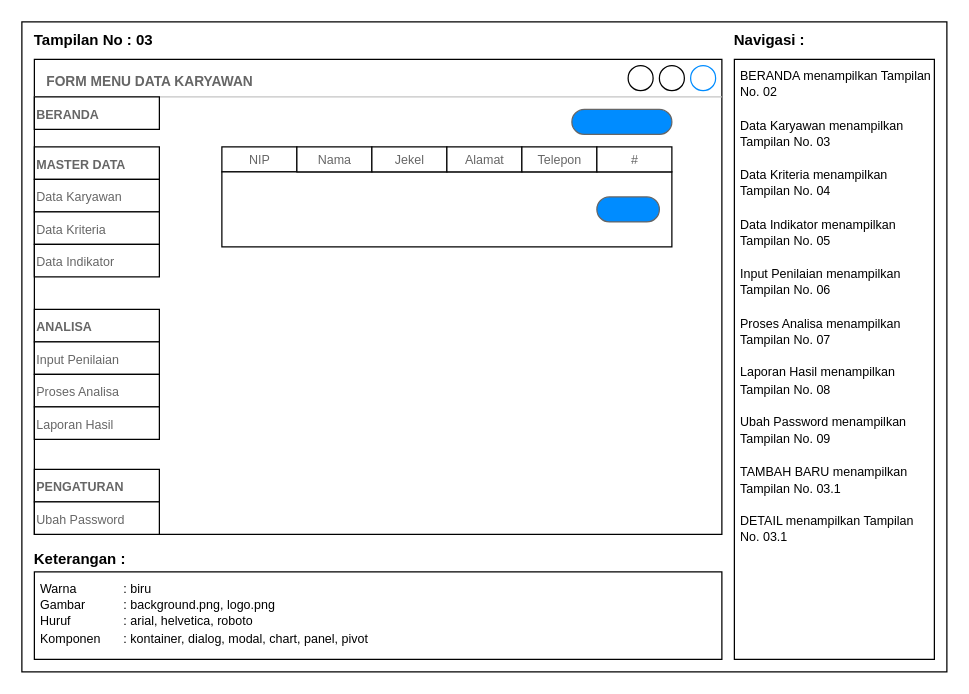
This 969x694 diagram has some shape labels left out. Here are the shapes that lost their labels. From the top down, the centre of each, then its label:
point 621,121: TAMBAH BARU
point 627,209: DETAIL
